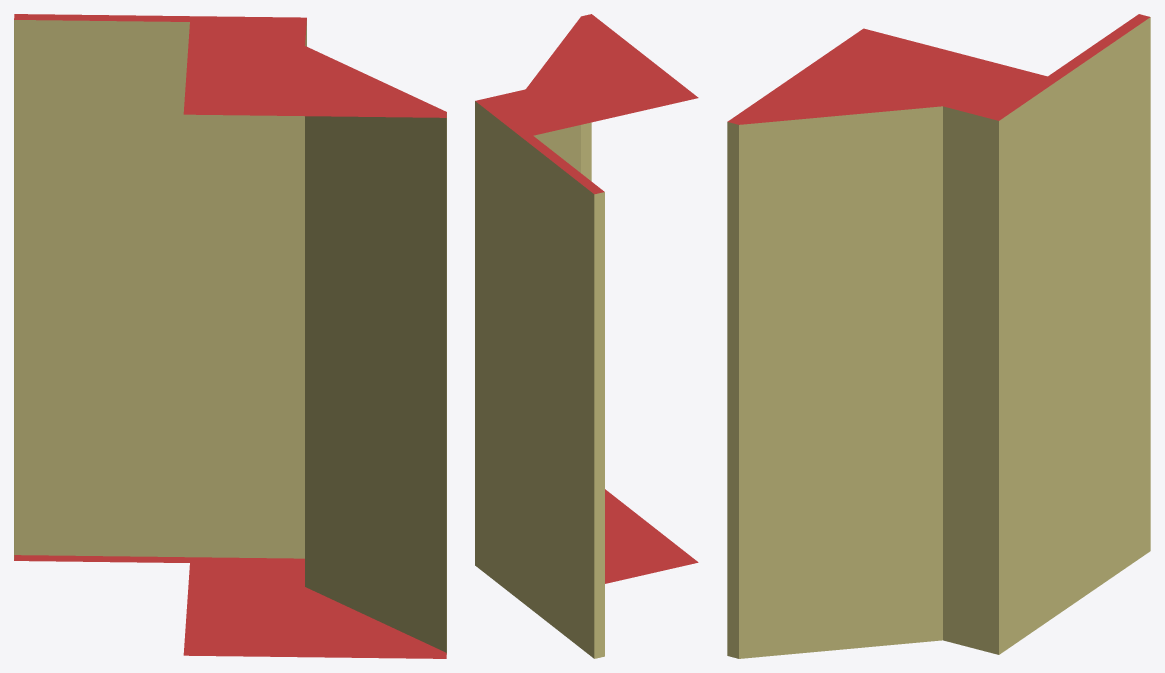
The picture shows the model from 3 angles, left to right: view 1: azimuth 30°, elevation 25°; view 2: azimuth 150°, elevation 25°; view 3: azimuth 270°, elevation 25°; orthographic projection. The views are drawn at different scales.
Bounding box in the file's own units: 4.77 × 7.69 × 10.7.
